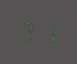one: (38, 20, 56, 45)
seven: (19, 18, 37, 43)
